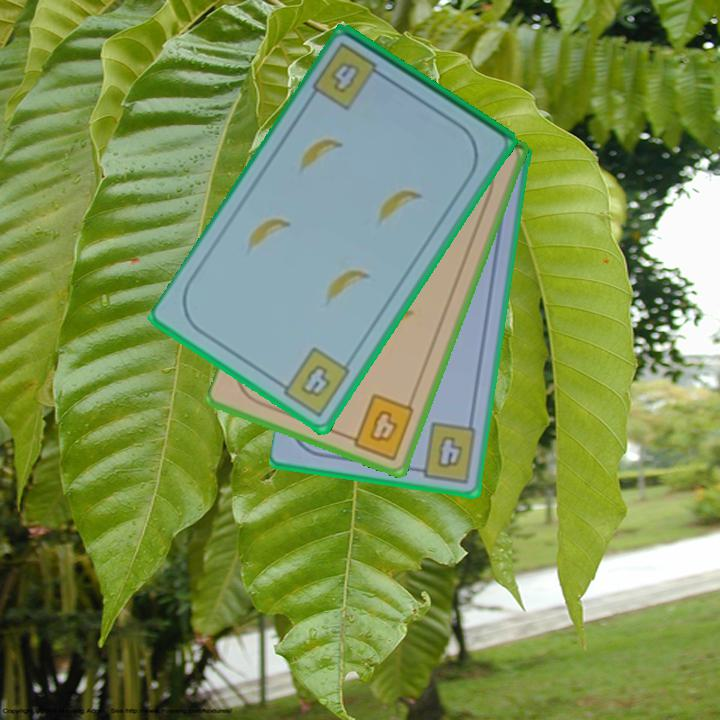4b: (273, 343, 354, 420), (309, 39, 391, 113), (341, 390, 418, 463), (410, 419, 480, 486)
